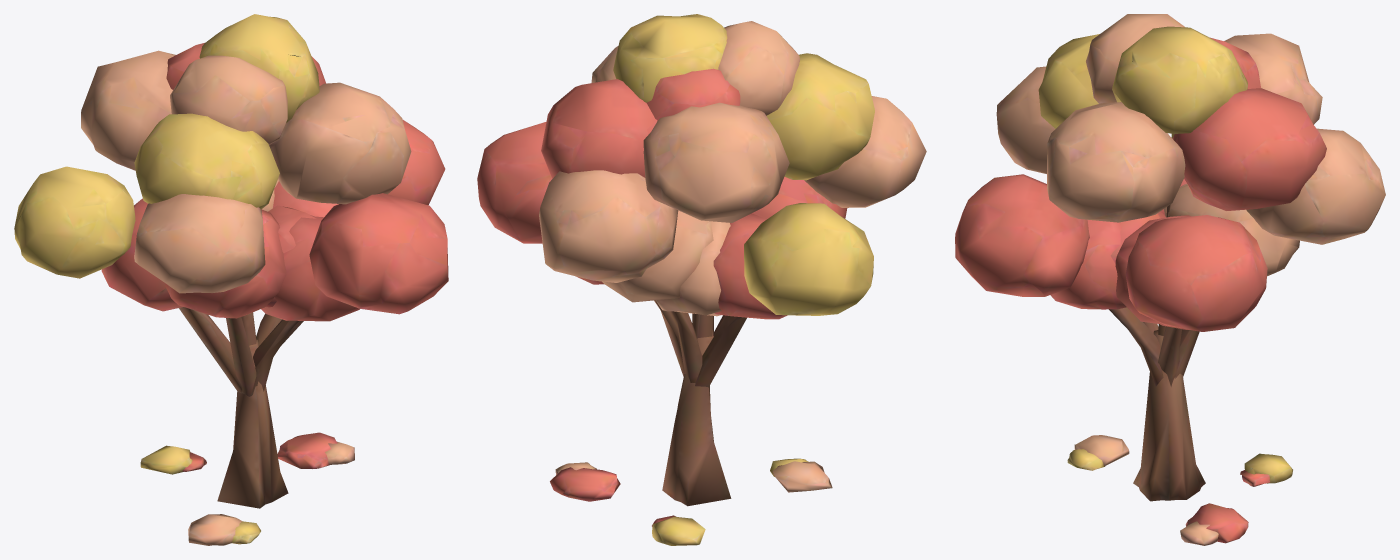
The model's file is autumn-tree.glb.
3 renders of one model, left to right at view 1: azimuth 30°, elevation 25°; view 2: azimuth 150°, elevation 25°; view 3: azimuth 270°, elevation 25°, orthographic. The views are drawn at different scales.
Parts seen in each view (by area): view 1: autumn-tree_body; view 2: autumn-tree_body; view 3: autumn-tree_body.
Part boxes in pixels (x1,y1,x2,y2): autumn-tree_body: (14,14,448,545); autumn-tree_body: (477,14,926,545); autumn-tree_body: (955,14,1385,545).
Size of the model in its own units: 5.68 by 6.37 by 5.37.
1 material, 1 textured.
